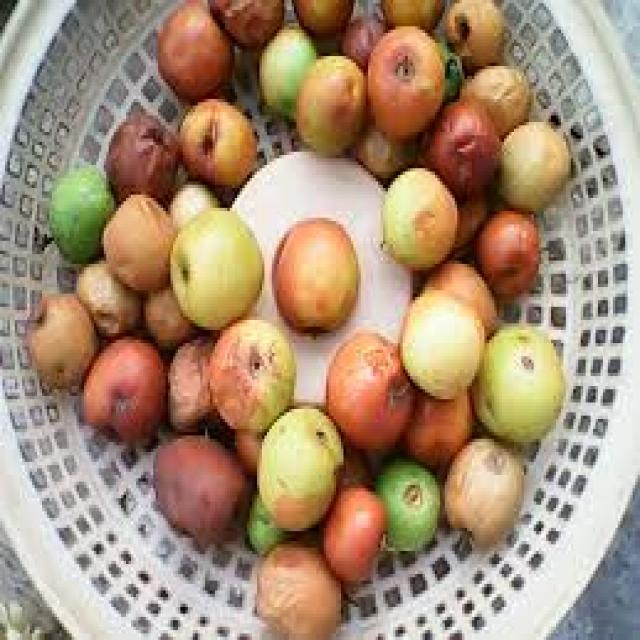organic waste: (469, 317, 566, 442), (163, 202, 262, 324), (252, 399, 344, 528), (148, 432, 250, 548), (270, 214, 358, 334), (323, 326, 408, 448), (395, 284, 482, 399), (74, 330, 168, 435), (208, 314, 292, 426), (440, 432, 524, 541), (366, 27, 442, 138), (250, 538, 338, 633), (175, 92, 257, 188), (378, 162, 455, 264), (420, 96, 499, 194), (45, 158, 116, 261), (99, 191, 175, 287), (156, 0, 232, 96), (489, 116, 571, 204), (316, 478, 383, 581), (101, 112, 178, 201), (294, 50, 363, 148), (373, 452, 442, 548), (22, 287, 92, 379), (472, 204, 539, 297), (398, 376, 472, 459), (422, 251, 497, 330), (254, 20, 312, 112), (454, 63, 528, 132), (166, 330, 215, 432), (74, 254, 136, 327), (439, 0, 502, 63), (242, 488, 299, 551), (354, 112, 411, 172), (205, 0, 282, 43), (138, 280, 188, 340), (163, 175, 215, 231), (286, 0, 353, 36), (227, 422, 267, 478), (338, 10, 381, 56), (378, 0, 444, 26), (452, 198, 487, 244), (339, 442, 368, 485)
